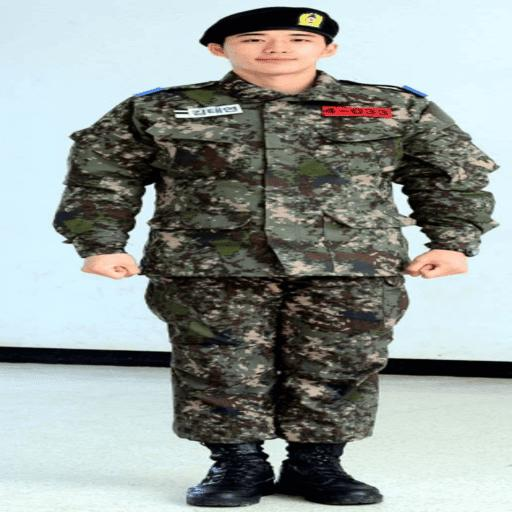korea army: (52, 5, 500, 507)
